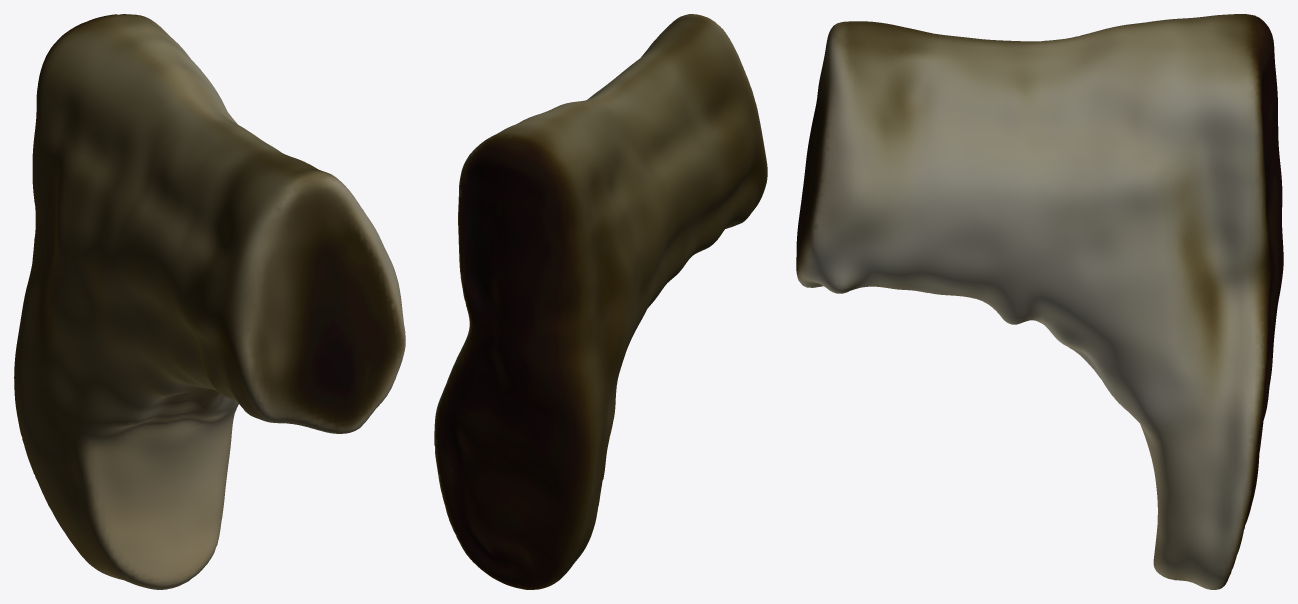
File: shoe1.glb
3 views of the same model, side by side, from view 1: azimuth 30°, elevation 25°; view 2: azimuth 150°, elevation 25°; view 3: azimuth 270°, elevation 25° (orthographic). The views are drawn at different scales.
Size of the model in its own units: 0.367 by 0.9998 by 0.808.
